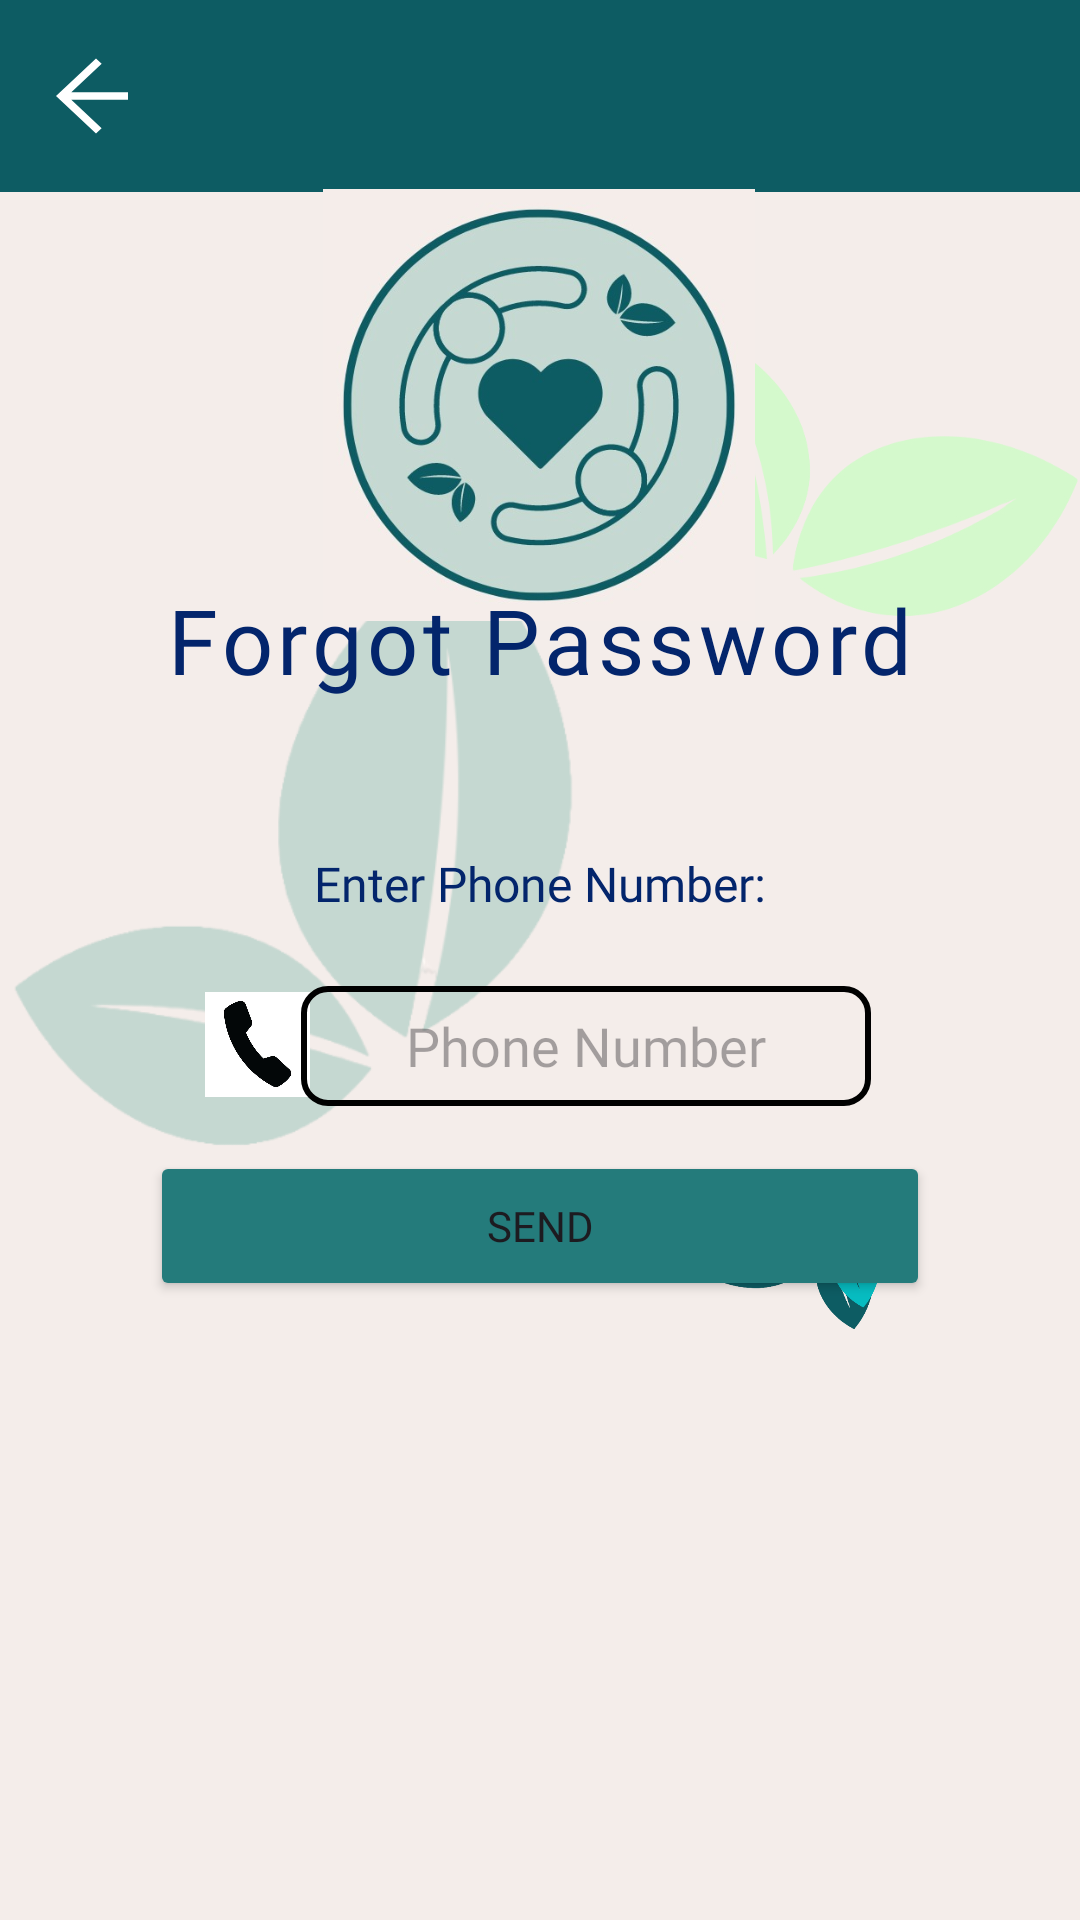

Point at icon controls on the screen. Image size 1080px x 1920px, points as point (x, y).
Back: point (92, 96)
